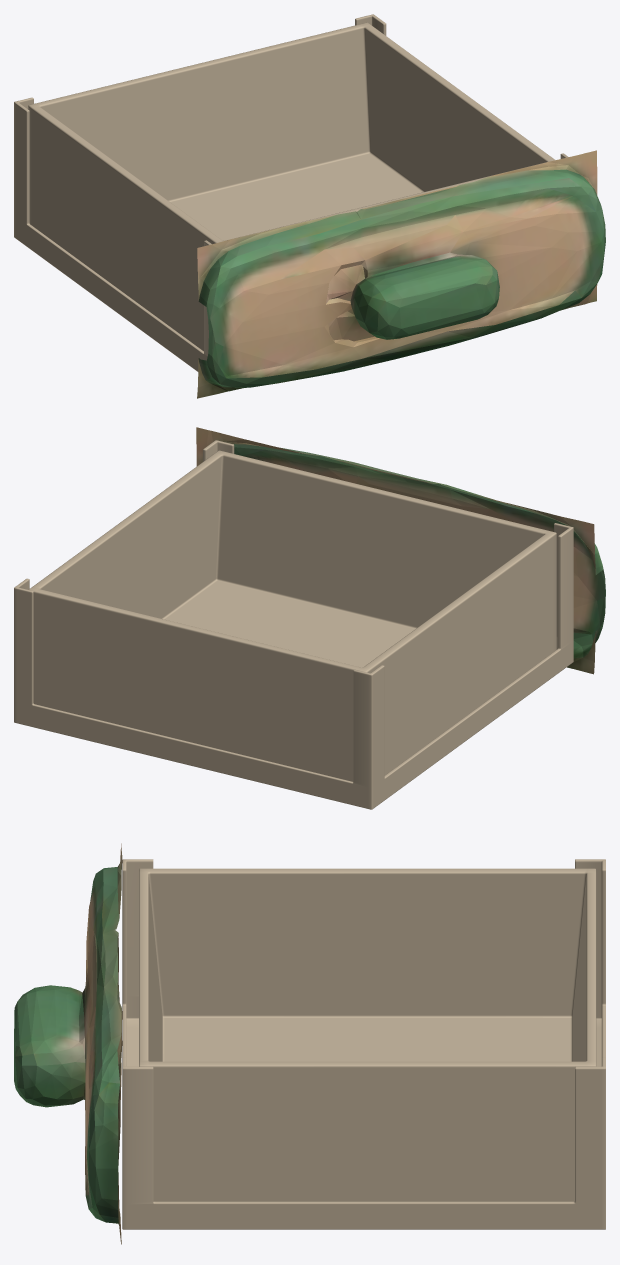
The model's file is drawer_left.glb.
3 renders of one model, top to bottom at view 1: azimuth 30°, elevation 25°; view 2: azimuth 150°, elevation 25°; view 3: azimuth 270°, elevation 25°, orthographic. The views are drawn at different scales.
Parts seen in each view (by area): view 1: prefab_drawer_body_1, source_front_cap_0; view 2: prefab_drawer_body_1, source_front_cap_0; view 3: prefab_drawer_body_1, source_front_cap_0.
Part boxes in pixels (box(x1,y1,x2,y2)): prefab_drawer_body_1: box(14, 14, 568, 371); source_front_cap_0: box(197, 150, 605, 398); prefab_drawer_body_1: box(14, 440, 573, 809); source_front_cap_0: box(196, 427, 605, 674); prefab_drawer_body_1: box(122, 859, 605, 1229); source_front_cap_0: box(14, 843, 122, 1244).
Bounding box in the file's own units: 0.2384 × 0.0859 × 0.2567.
2 materials, 1 textured.
